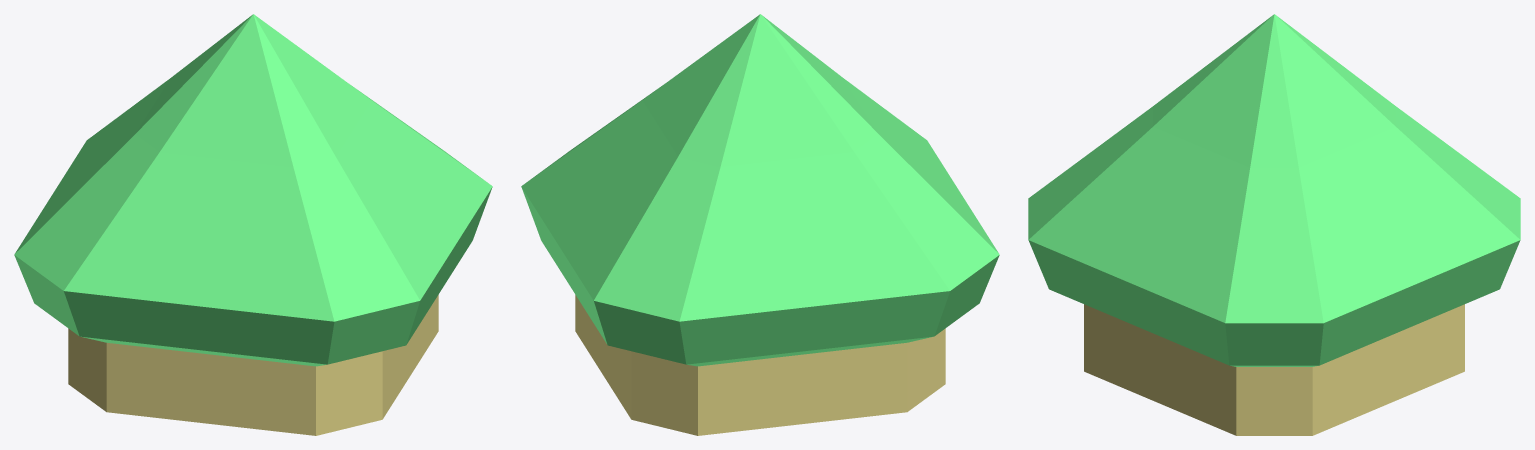
Rendered from castle_roof.FBX.
3 views of the same model, side by side, from view 1: azimuth 30°, elevation 25°; view 2: azimuth 150°, elevation 25°; view 3: azimuth 270°, elevation 25° (orthographic).
Visible parts, largest first — view 1: castle_roof; view 2: castle_roof; view 3: castle_roof.
Part boxes in pixels (x1,y1,x2,y2): castle_roof: [14, 14, 492, 435]; castle_roof: [521, 14, 999, 435]; castle_roof: [1028, 14, 1520, 435].
Size of the model in its own units: 64.6 by 49.45 by 64.6.
